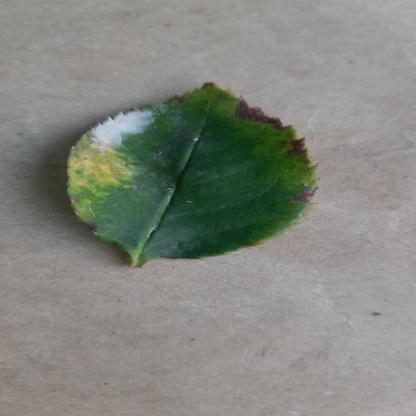black-spot: (51, 80, 335, 262)
